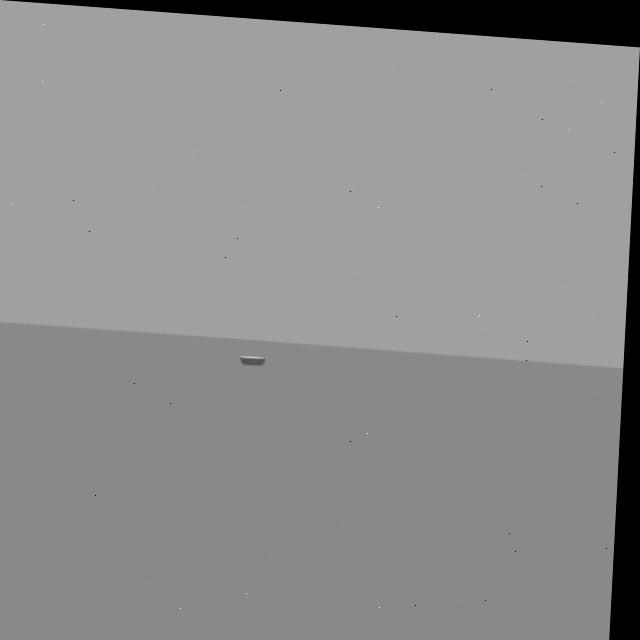bowl: (238, 340, 277, 380)
